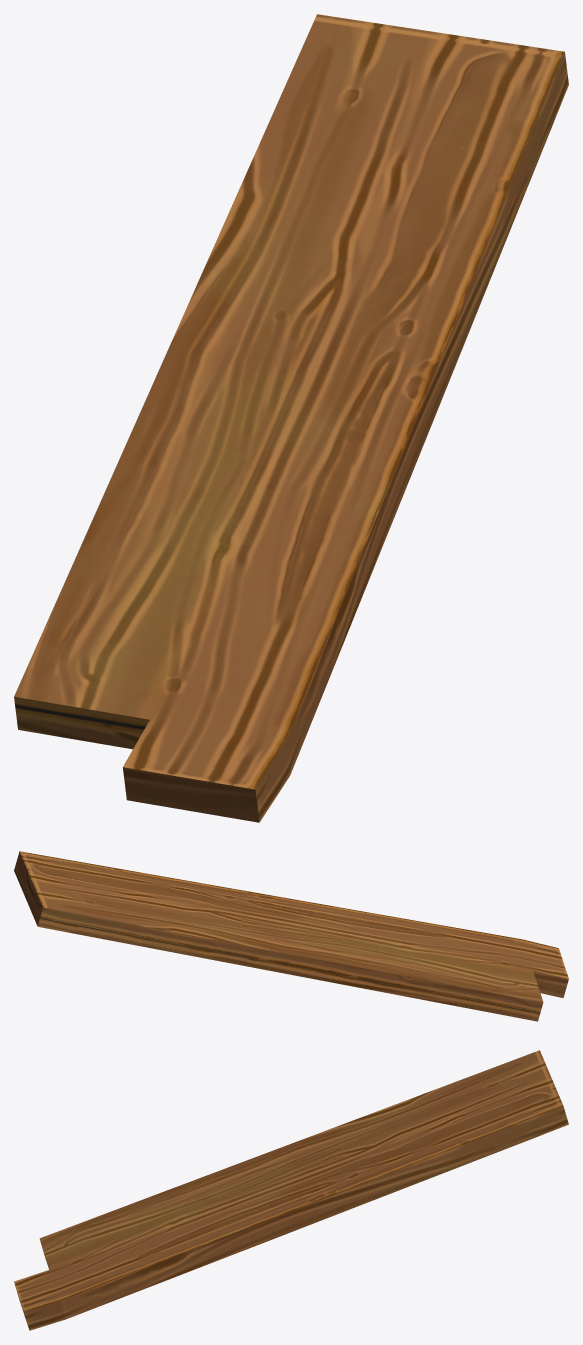
The picture shows the model from 3 angles, top to bottom: view 1: azimuth 30°, elevation 25°; view 2: azimuth 150°, elevation 25°; view 3: azimuth 330°, elevation 25°; orthographic projection. The views are drawn at different scales.
Parts seen in each view (by area): view 1: Cube.654; view 2: Cube.654; view 3: Cube.654.
Part boxes in pixels (x1,y1,x2,y2): Cube.654: (14,14,568,822); Cube.654: (14,851,568,1021); Cube.654: (14,1050,568,1330).
Size of the model in its own units: 284 by 114 by 296.
1 material, 1 textured.
